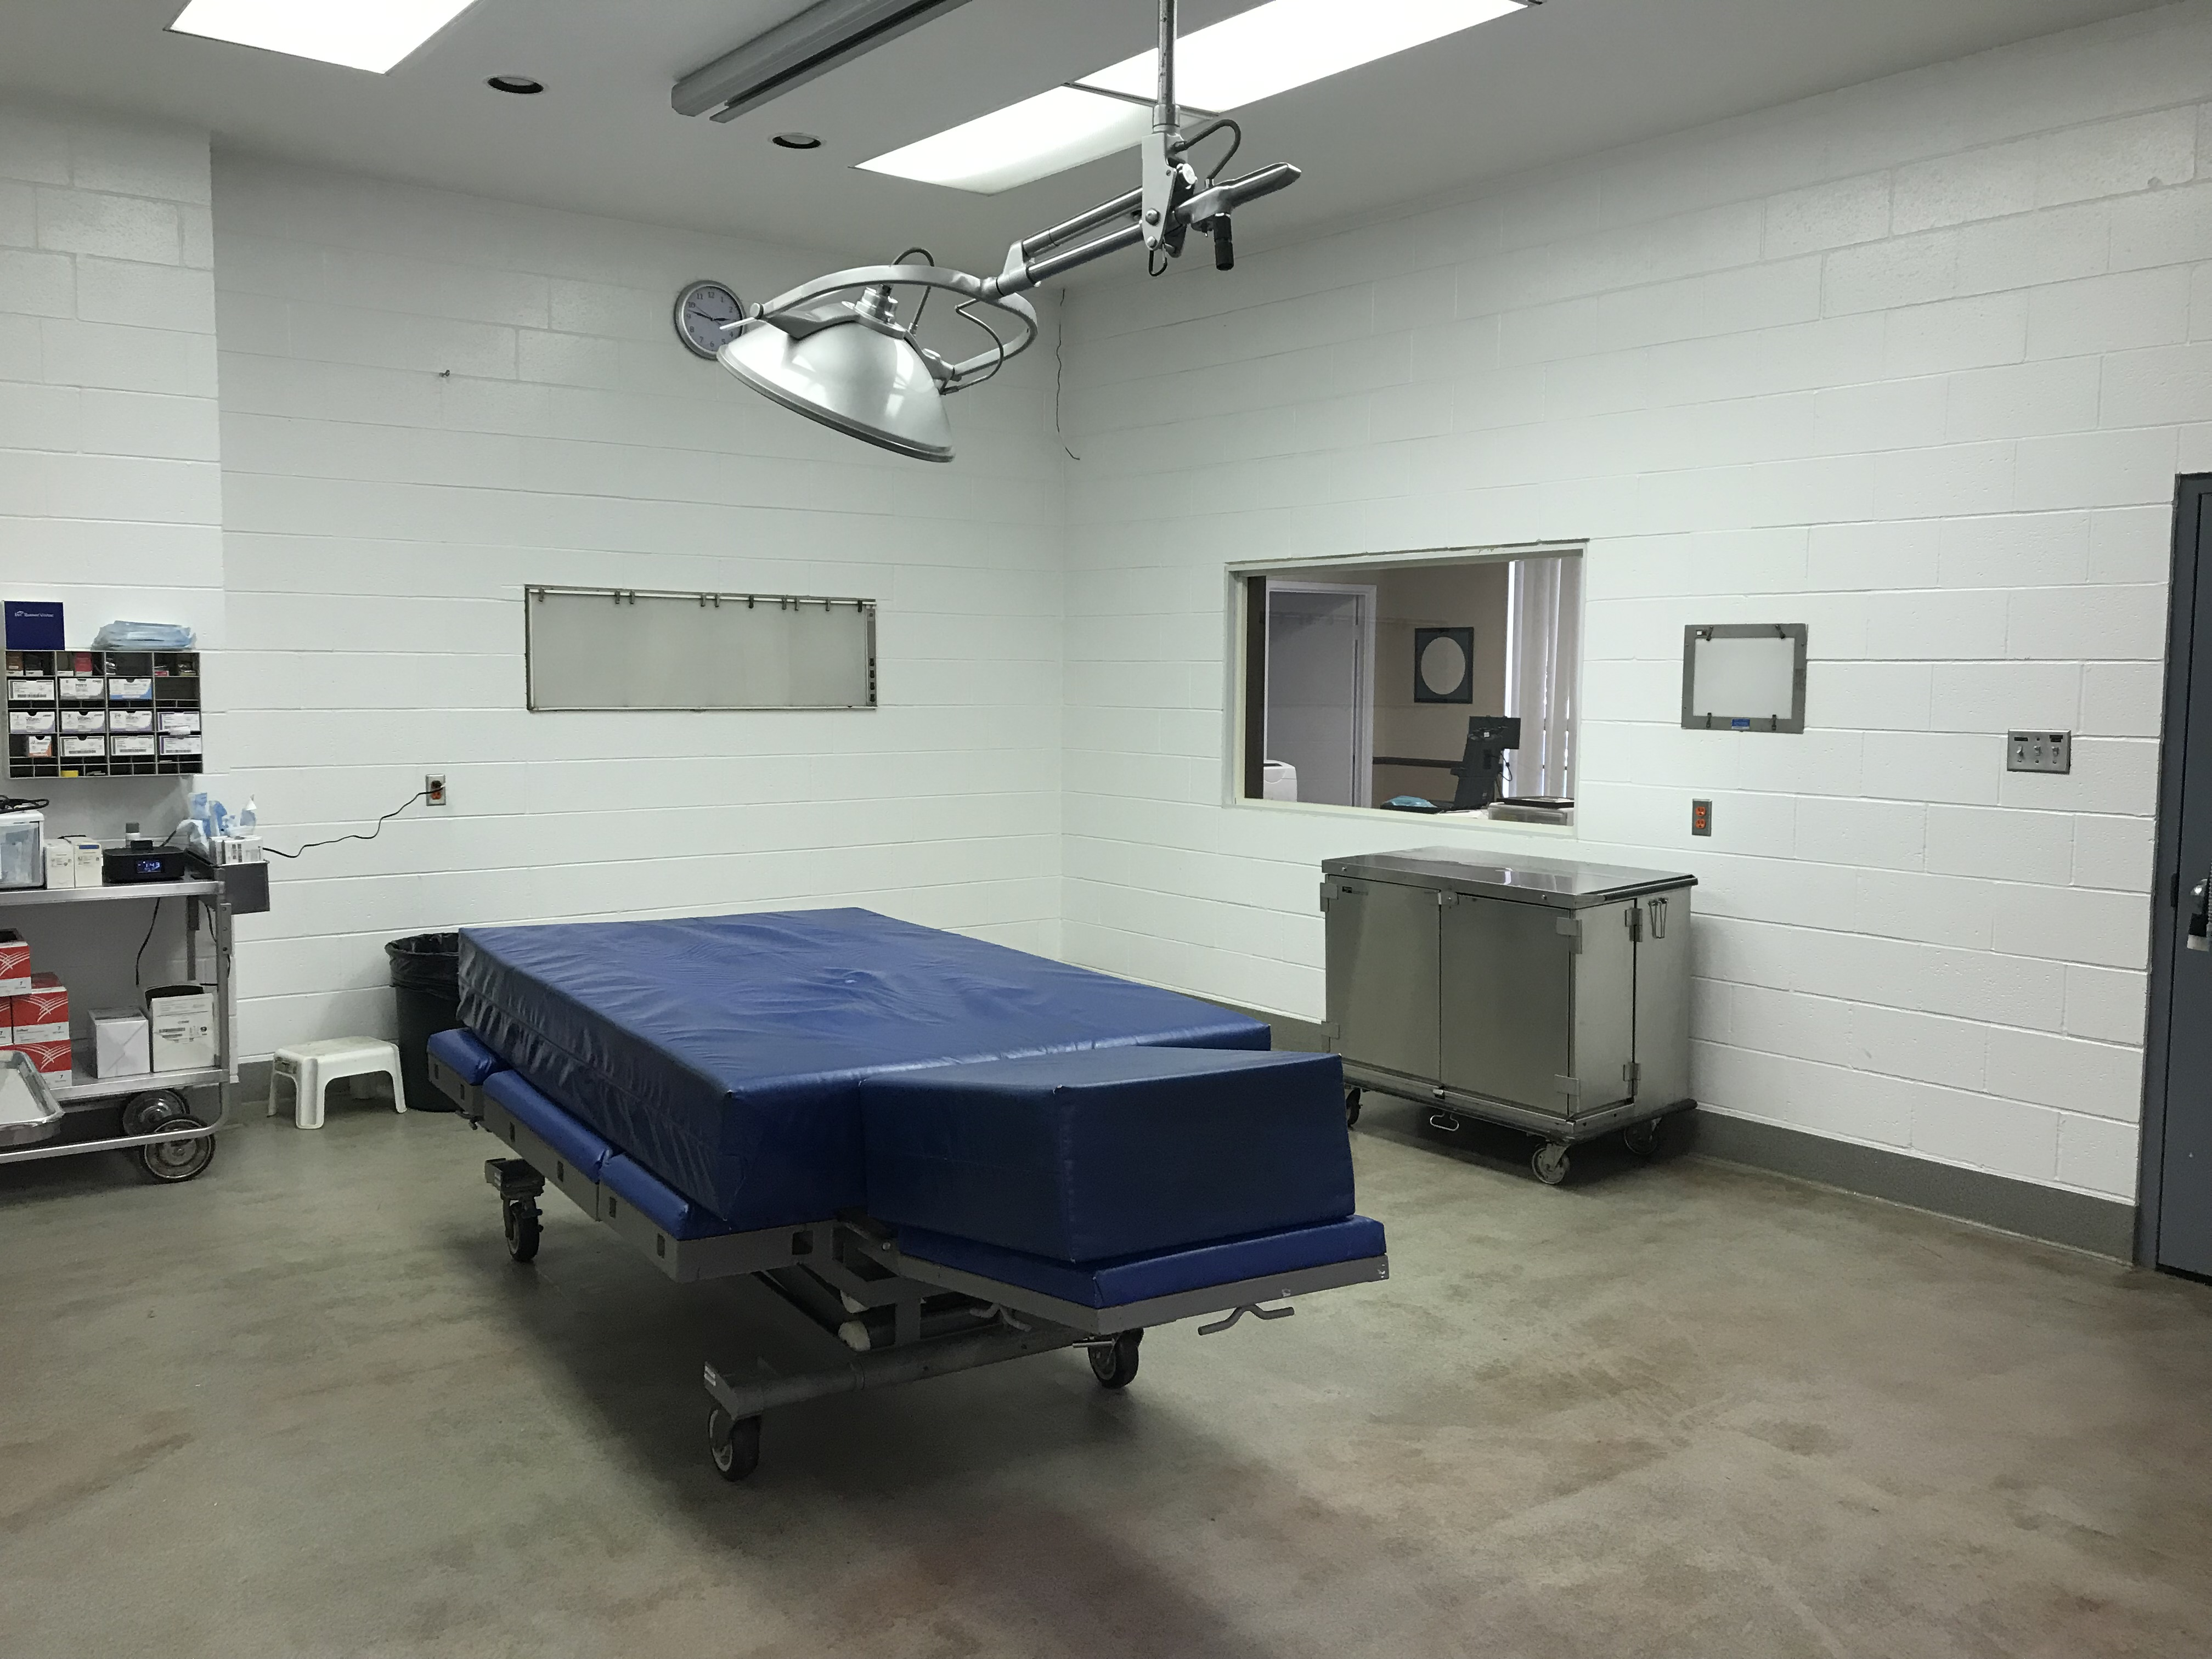cabinet: (0, 643, 214, 775)
chair: (263, 1023, 413, 1143)
door_handle: (2165, 870, 2212, 953)
operating_bed: (430, 911, 1392, 1485)
utility_cart: (1317, 847, 1696, 1187), (0, 845, 228, 1183), (712, 282, 954, 465)
waste_bin: (383, 932, 467, 1112)
